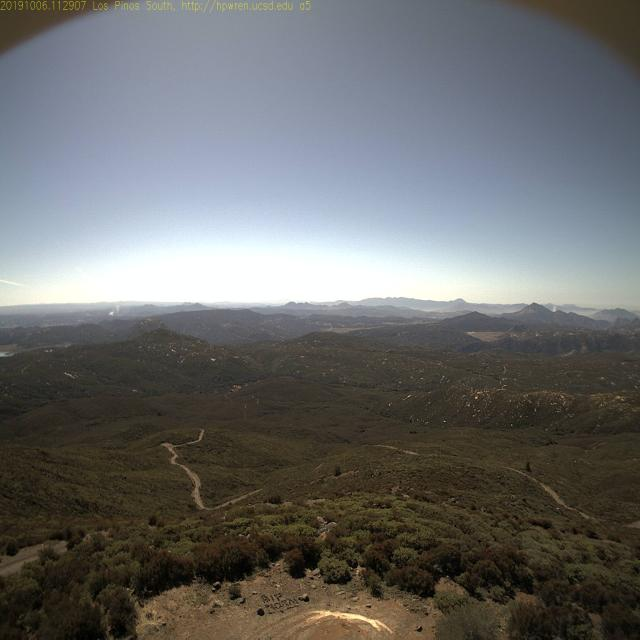smoke: (102, 298, 140, 321), (546, 304, 560, 311)
